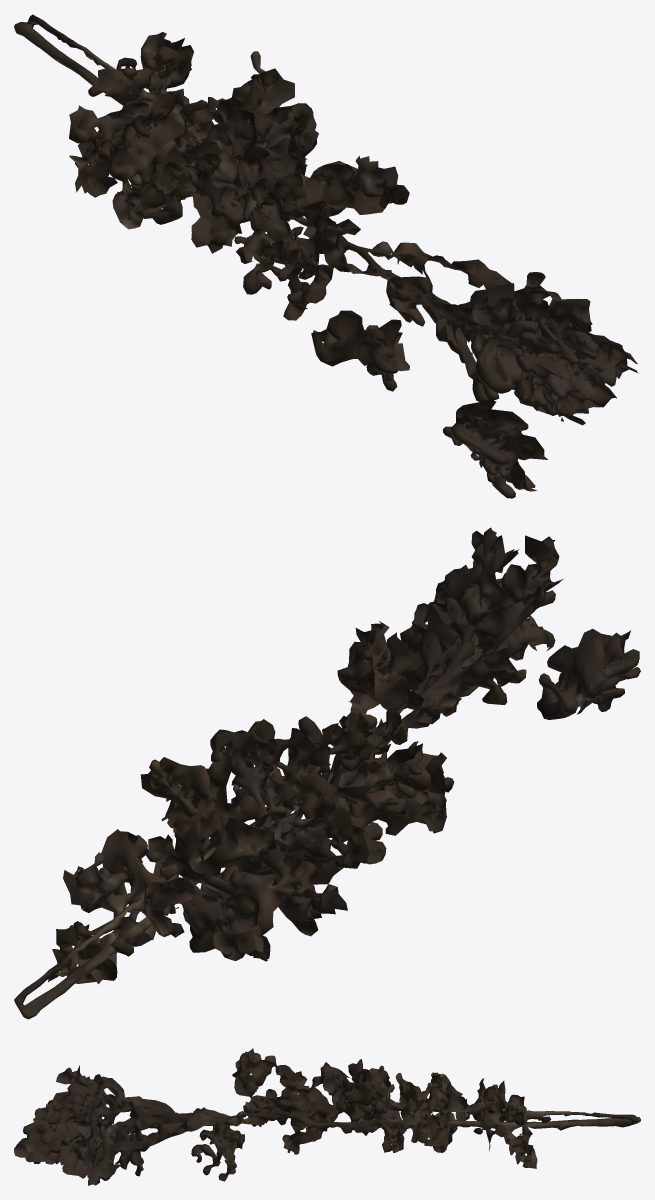
The model's file is tree_mesh.dae.
The picture shows the model from 3 angles, top to bottom: view 1: azimuth 30°, elevation 25°; view 2: azimuth 150°, elevation 25°; view 3: azimuth 270°, elevation 25°; orthographic projection. The views are drawn at different scales.
Parts seen in each view (by area): view 1: node0; view 2: node0; view 3: node0.
Part boxes in pixels (<box>): node0: <box>14,14,639,498</box>; node0: <box>14,527,640,1019</box>; node0: <box>14,1048,640,1185</box>.
Size of the model in its own units: 7.71 by 6.23 by 28.8.
